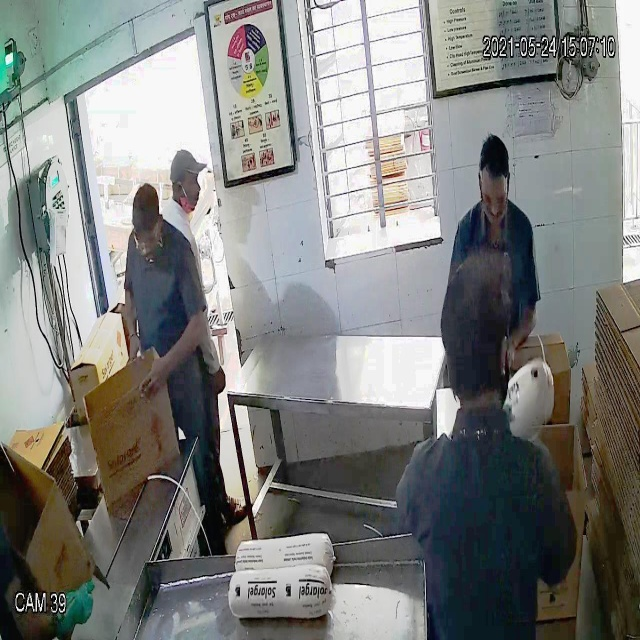Gafas: (130, 223, 164, 254)
